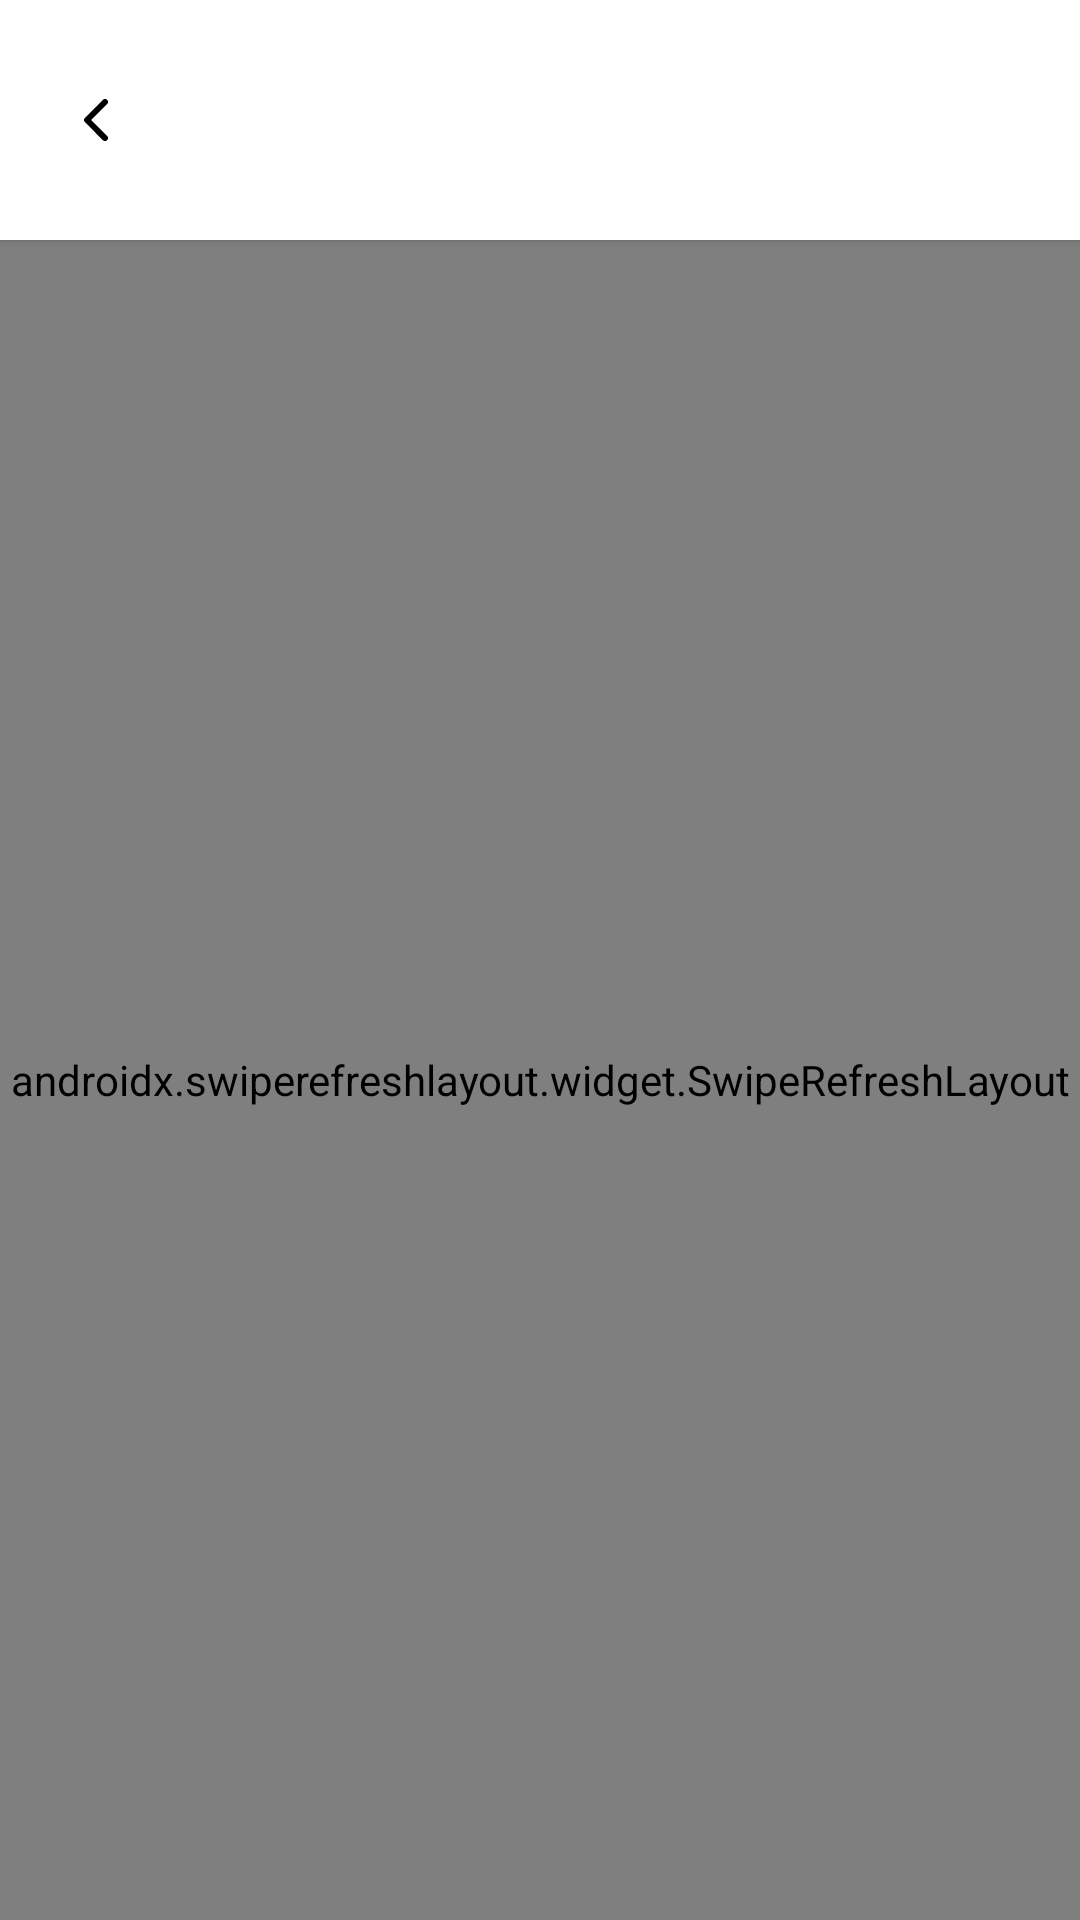

Where icons sit on this 1080*1920 app screen, as (x1,y1,x2,y2):
back arrow: (84,99,108,141)
